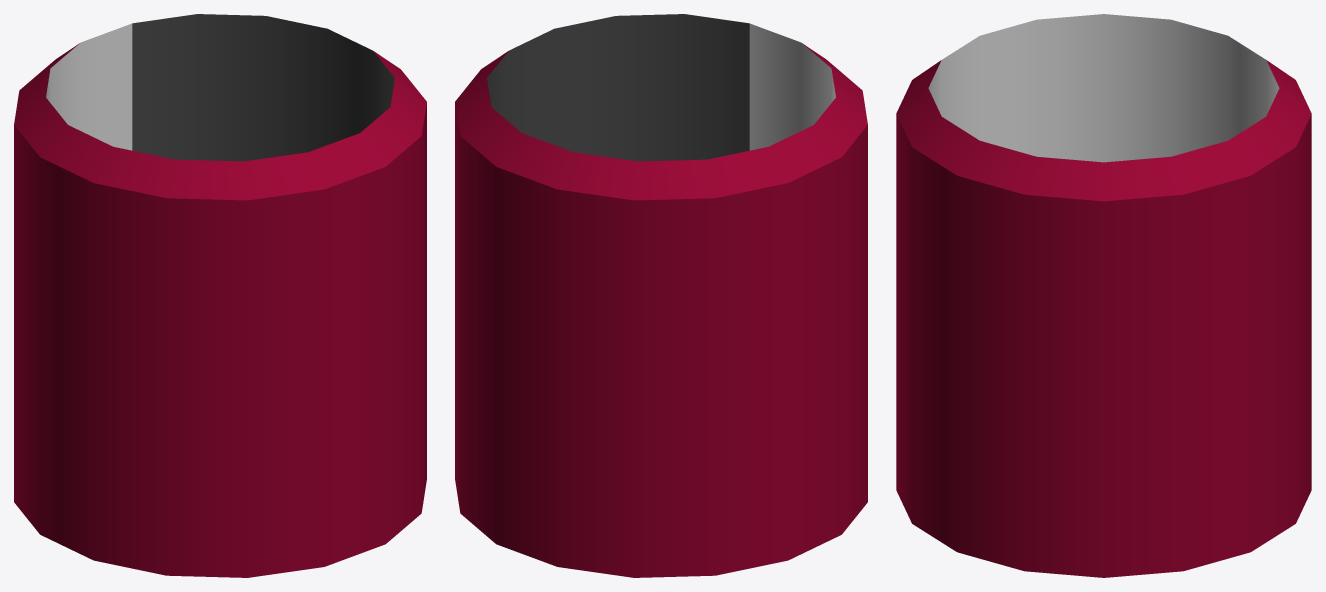
File: GlassTest.fbx
3 renders of one model, left to right at view 1: azimuth 30°, elevation 25°; view 2: azimuth 150°, elevation 25°; view 3: azimuth 270°, elevation 25°, orthographic.
Parts seen in each view (by area): view 1: UseGlassShader; view 2: UseGlassShader; view 3: UseGlassShader.
Boxes of the visible parts, bbox=[...] form: UseGlassShader: bbox=[14, 14, 426, 577]; UseGlassShader: bbox=[455, 14, 867, 577]; UseGlassShader: bbox=[896, 14, 1311, 577].
Size of the model in its own units: 2 by 2.13 by 2.
